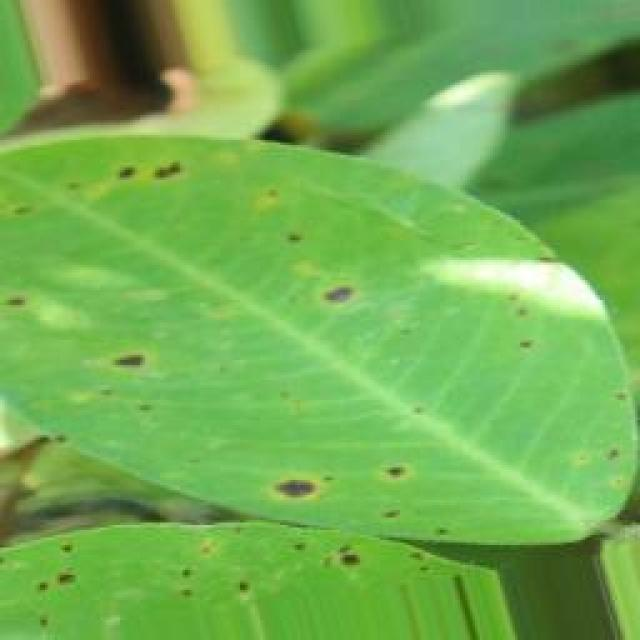Sigatoka: (296, 508, 456, 594), (262, 452, 432, 530), (562, 353, 640, 478), (150, 522, 252, 603), (278, 228, 358, 328), (20, 528, 93, 637), (480, 270, 547, 363), (115, 134, 185, 195), (103, 337, 163, 394), (0, 184, 61, 237), (0, 266, 49, 325), (244, 173, 287, 215)
